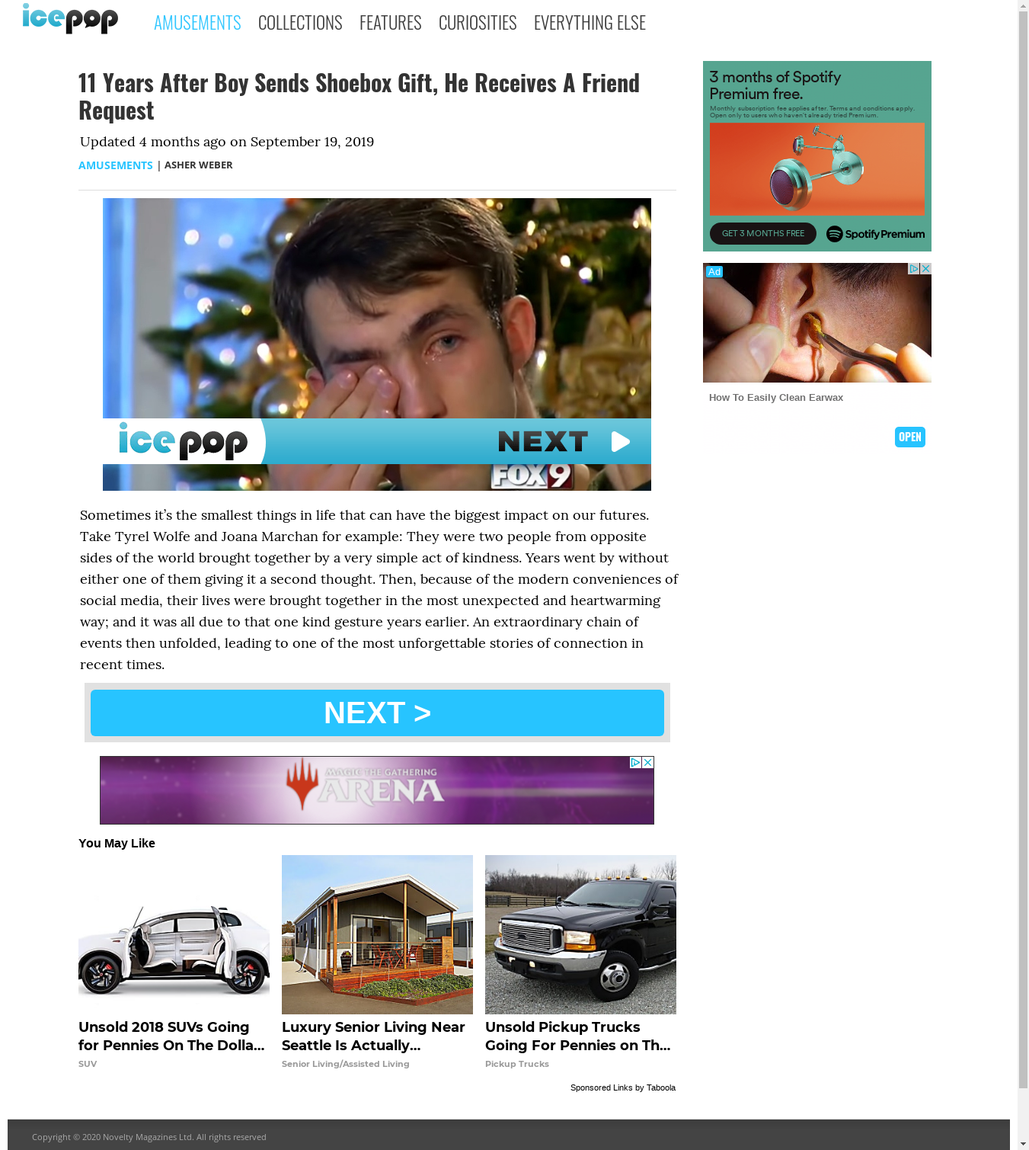fake_button: (56, 675, 693, 753)
